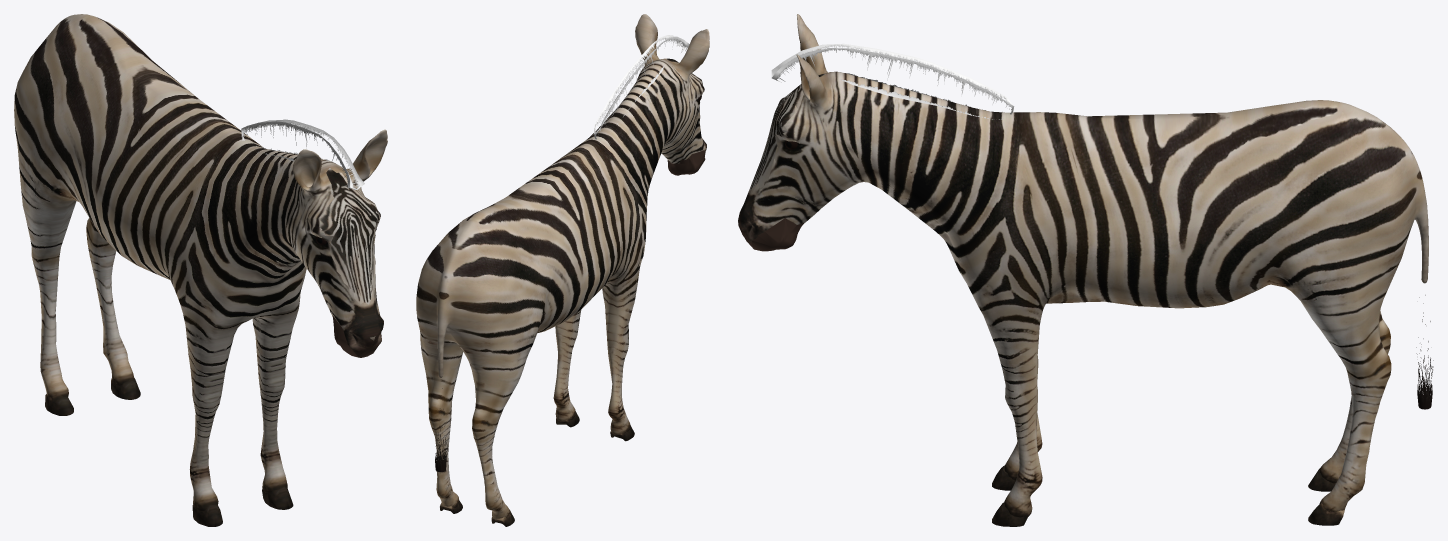
File: zebra.FBX
3 views of the same model, side by side, from view 1: azimuth 30°, elevation 25°; view 2: azimuth 150°, elevation 25°; view 3: azimuth 270°, elevation 25° (orthographic). The views are drawn at different scales.
Visible parts, largest first — view 1: ZEBBODY, ZEBCRIN; view 2: ZEBBODY, ZEBCRIN, ZEBTAIL; view 3: ZEBBODY, ZEBCRIN.
Part boxes in pixels (x1,y1,x2,y2): ZEBBODY: (14, 14, 387, 526); ZEBCRIN: (241, 119, 364, 190); ZEBBODY: (416, 14, 709, 526); ZEBCRIN: (594, 35, 689, 139); ZEBTAIL: (435, 388, 447, 472); ZEBBODY: (738, 14, 1428, 526); ZEBCRIN: (771, 43, 1014, 119).
Bounding box in the file's own units: 38778 × 122084 × 164207.
Materials: 4 (4 with a texture image).
